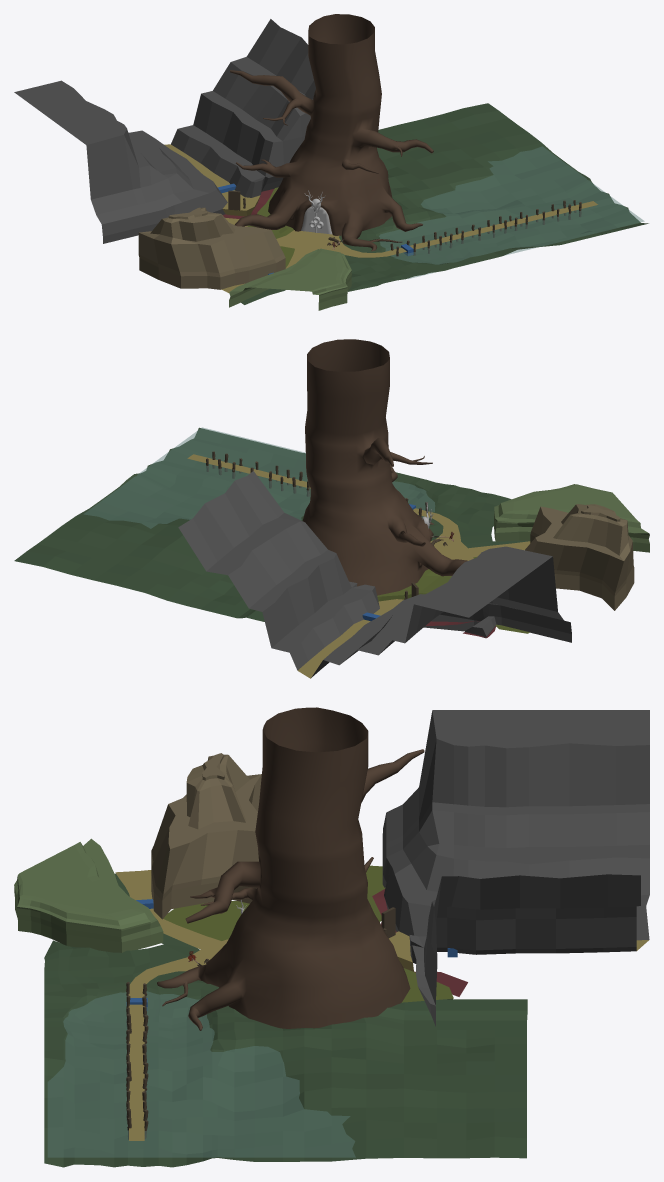
The model's file is blocking_level_2_hub_v14.fbx.
3 renders of one model, top to bottom at view 1: azimuth 30°, elevation 25°; view 2: azimuth 150°, elevation 25°; view 3: azimuth 270°, elevation 25°, orthographic. The views are drawn at different scales.
Visible parts, largest first — view 1: grass_wetlands, tree_trunk, water, mountain_1, mountain_2, mountain_entrance, hill, path_center, path_bridge, path_mountain, tree_door; view 2: grass_wetlands, tree_trunk, mountain_1, mountain_2, water, mountain_entrance, hill, path_center, path_mountain, grass_lava_1, path_bridge; view 3: grass_wetlands, tree_trunk, mountain_2, water, mountain_1, mountain_entrance, hill, path_center, path_bridge, grass_lava_2, lava, path_mountain (+1 smaller).
Boxes of the visible parts, <box> form: grass_wetlands: <box>241,103,648,304</box>; tree_trunk: <box>230,14,433,251</box>; water: <box>379,146,644,278</box>; mountain_1: <box>171,19,315,197</box>; mountain_2: <box>14,80,227,243</box>; mountain_entrance: <box>138,207,285,289</box>; hill: <box>229,248,351,310</box>; path_center: <box>221,218,386,292</box>; path_bridge: <box>382,201,597,256</box>; path_mountain: <box>164,144,260,216</box>; tree_door: <box>301,206,332,234</box>; grass_wetlands: <box>14,427,529,621</box>; tree_trunk: <box>302,339,467,595</box>; mountain_1: <box>178,471,379,670</box>; mountain_2: <box>311,546,571,677</box>; water: <box>84,427,434,528</box>; mountain_entrance: <box>525,504,634,610</box>; hill: <box>494,484,649,552</box>; path_center: <box>430,514,530,560</box>; path_mountain: <box>297,599,404,678</box>; grass_lava_1: <box>377,569,451,601</box>; path_bridge: <box>187,454,437,517</box>; grass_wetlands: <box>44,873,527,1167</box>; tree_trunk: <box>157,707,424,1030</box>; mountain_2: <box>382,710,649,940</box>; water: <box>47,991,355,1157</box>; mountain_1: <box>409,874,640,1026</box>; mountain_entrance: <box>151,753,261,919</box>; hill: <box>14,838,163,952</box>; path_center: <box>115,870,228,985</box>; path_bridge: <box>128,986,144,1140</box>; grass_lava_2: <box>163,901,249,940</box>; lava: <box>372,889,467,996</box>; path_mountain: <box>389,931,648,971</box>.
Size of the model in its own units: 77.62 by 32.76 by 64.57.
